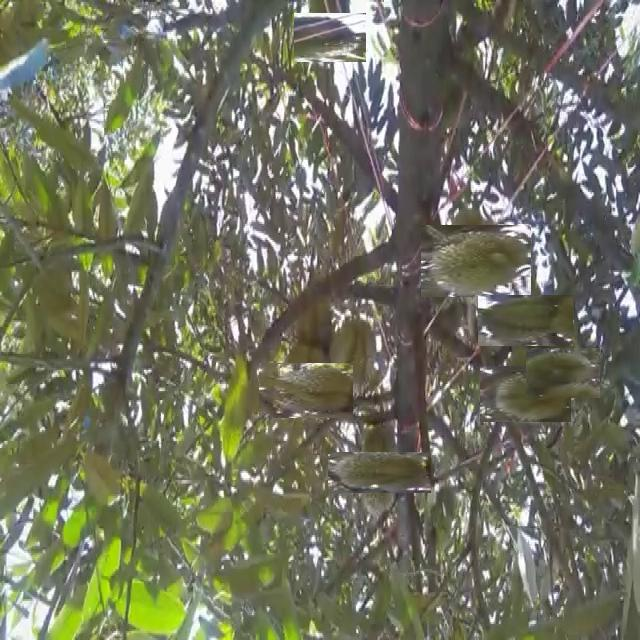durian: (430, 215, 522, 306), (269, 353, 344, 428), (489, 357, 563, 431), (488, 284, 562, 357), (343, 436, 416, 508), (531, 342, 594, 404), (300, 8, 360, 68), (342, 314, 380, 402), (326, 311, 356, 393)
